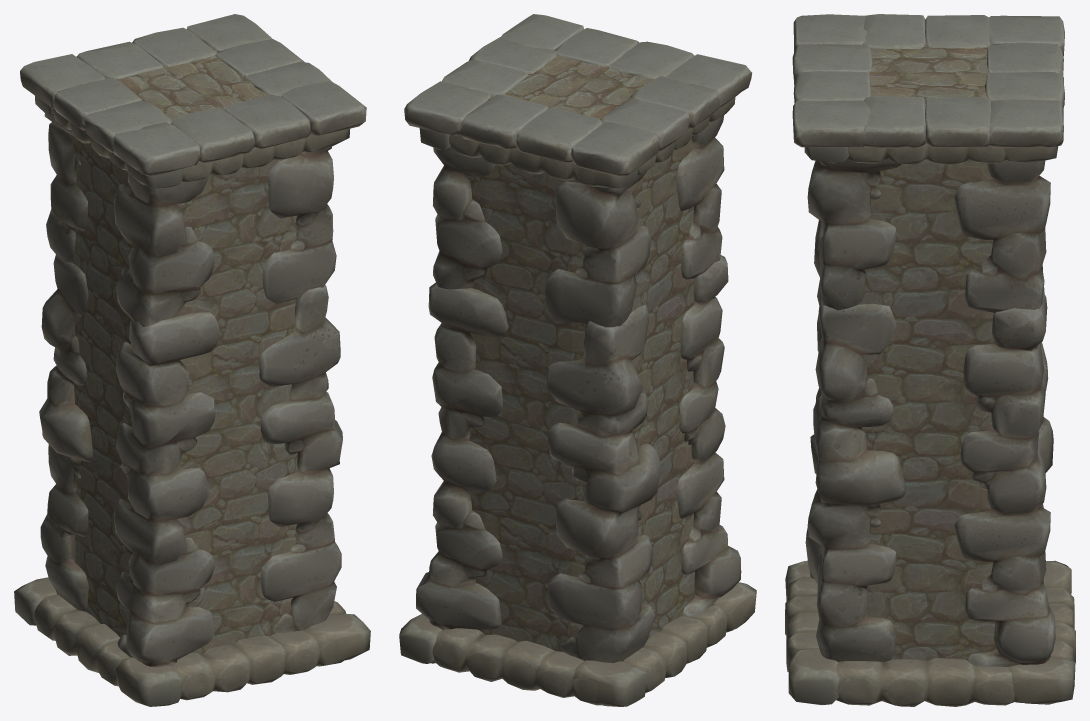
The model's file is SM_FW01_Ruins_Int_Pillar_A_2x6_01.fbx.
3 views of the same model, side by side, from view 1: azimuth 30°, elevation 25°; view 2: azimuth 150°, elevation 25°; view 3: azimuth 270°, elevation 25° (orthographic). The views are drawn at different scales.
Visible parts, largest first — view 1: SM_FW01_Ruins_Int_Pillar_A_2x6_01_LOD0, SM_FW01_Ruins_Int_Pillar_A_2x6_01; view 2: SM_FW01_Ruins_Int_Pillar_A_2x6_01_LOD0, SM_FW01_Ruins_Int_Pillar_A_2x6_01; view 3: SM_FW01_Ruins_Int_Pillar_A_2x6_01_LOD0, SM_FW01_Ruins_Int_Pillar_A_2x6_01.
Part boxes in pixels (x1=…): SM_FW01_Ruins_Int_Pillar_A_2x6_01_LOD0: x1=14, y1=14, x2=370, y2=706; SM_FW01_Ruins_Int_Pillar_A_2x6_01: x1=69, y1=46, x2=298, y2=654; SM_FW01_Ruins_Int_Pillar_A_2x6_01_LOD0: x1=399, y1=14, x2=756, y2=706; SM_FW01_Ruins_Int_Pillar_A_2x6_01: x1=467, y1=55, x2=696, y2=651; SM_FW01_Ruins_Int_Pillar_A_2x6_01_LOD0: x1=785, y1=14, x2=1075, y2=706; SM_FW01_Ruins_Int_Pillar_A_2x6_01: x1=858, y1=38, x2=997, y2=660.
Size of what is drawn, in the model's own units: 2.69 by 6.13 by 2.78.
